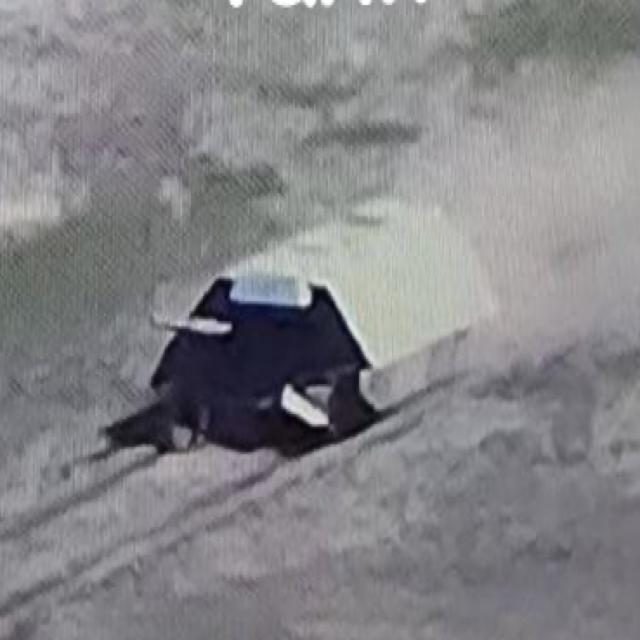vehicle: (148, 194, 500, 453)
